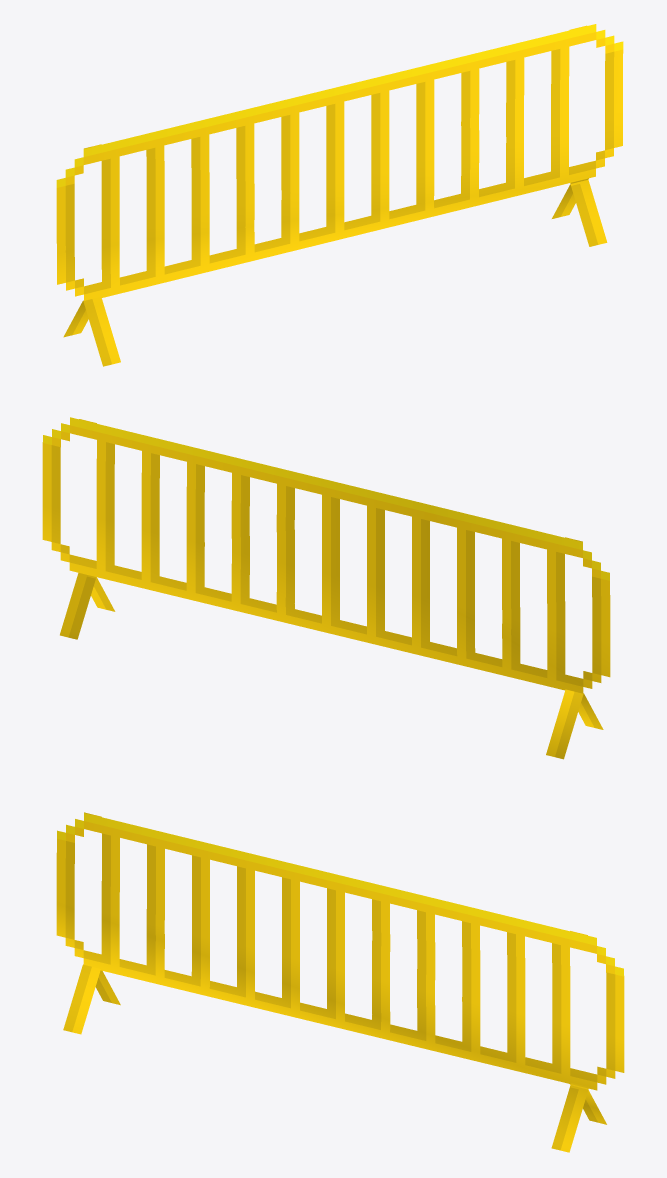
The model's file is obstacle_fence.glb.
The picture shows the model from 3 angles, top to bottom: view 1: azimuth 30°, elevation 25°; view 2: azimuth 150°, elevation 25°; view 3: azimuth 330°, elevation 25°; orthographic projection.
Parts seen in each view (by area): view 1: obstacle_fence.001; view 2: obstacle_fence.001; view 3: obstacle_fence.001.
Boxes of the visible parts, x1,y1,x2,y2 form: obstacle_fence.001: [56, 24, 623, 366]; obstacle_fence.001: [42, 417, 610, 759]; obstacle_fence.001: [56, 812, 624, 1152].
Size of the model in its own units: 6.77 by 2.19 by 0.7833.
1 material, 1 textured.
